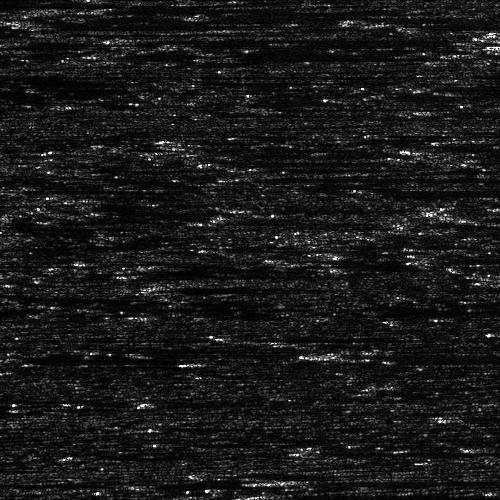object: (278, 347, 413, 358), (201, 490, 316, 500), (228, 478, 311, 483), (92, 35, 165, 40), (401, 144, 432, 149)
shadow: (259, 490, 500, 500), (346, 347, 500, 358), (129, 35, 433, 40), (270, 478, 500, 483), (0, 0, 76, 8), (417, 144, 500, 149)
